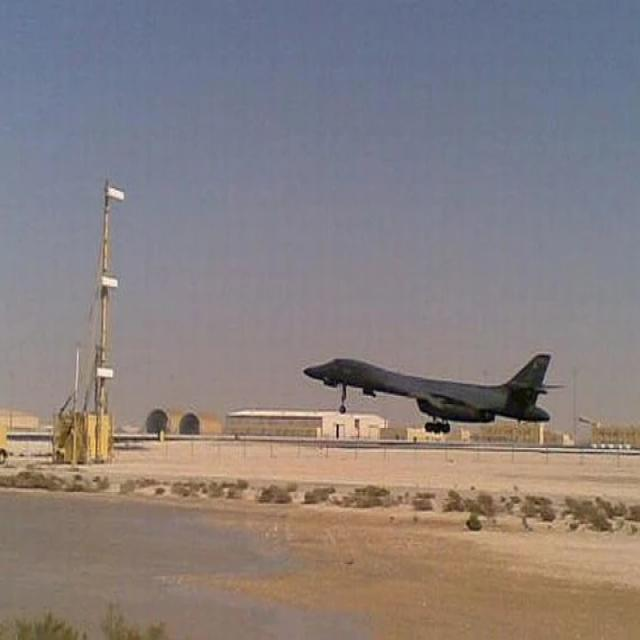MIL_Plane: (302, 356, 566, 432)
